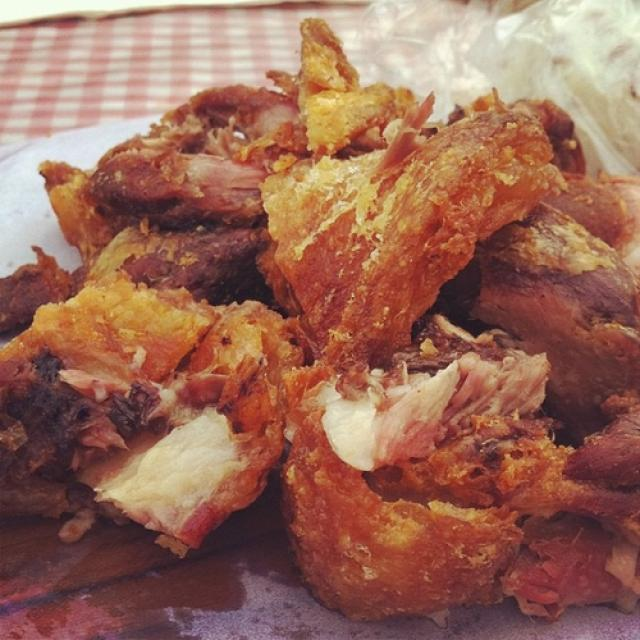猪肉菜式: (18, 45, 617, 621)
